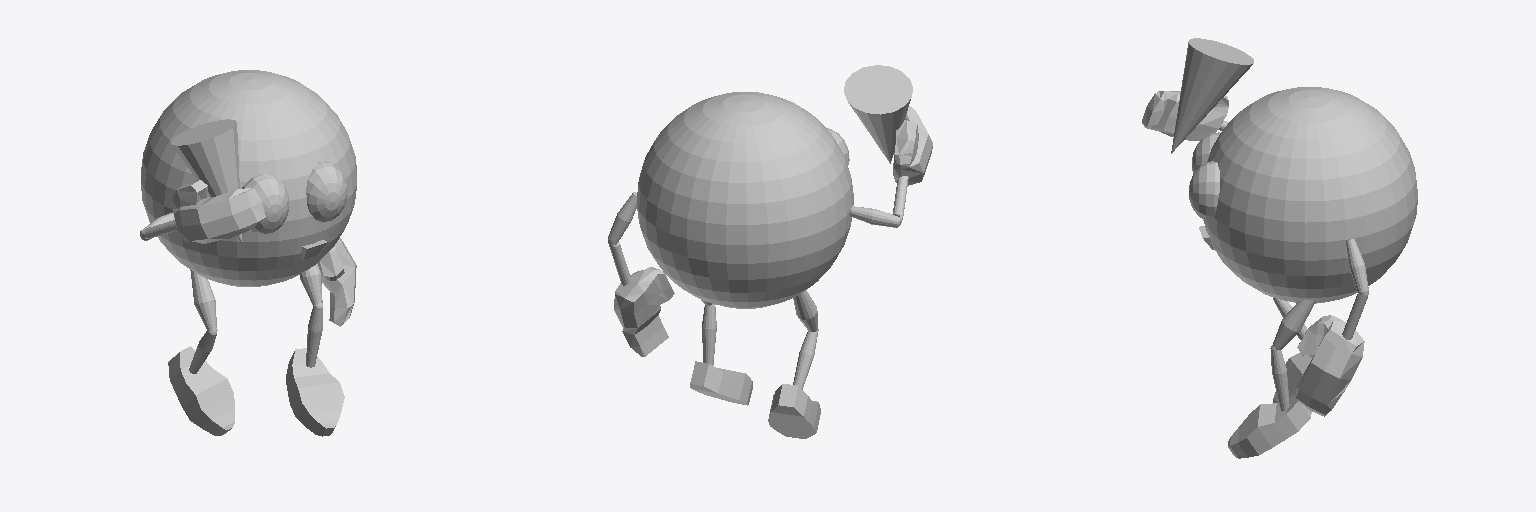
The model's file is runToStand_000058.obj.
3 renders of one model, left to right at view 1: azimuth 30°, elevation 25°; view 2: azimuth 150°, elevation 25°; view 3: azimuth 270°, elevation 25°, orthographic.
Parts seen in each view (by area): view 1: Rusko_Sphere; view 2: Rusko_Sphere; view 3: Rusko_Sphere.
Boxes of the visible parts, x1=… form: Rusko_Sphere: x1=140, y1=70, x2=356, y2=436; Rusko_Sphere: x1=608, y1=65, x2=932, y2=438; Rusko_Sphere: x1=1142, y1=38, x2=1417, y2=458.
Size of the model in its own units: 5.29 by 7.12 by 5.08.